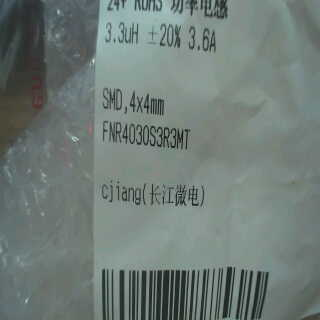3.3uH: (101, 15, 141, 51)
